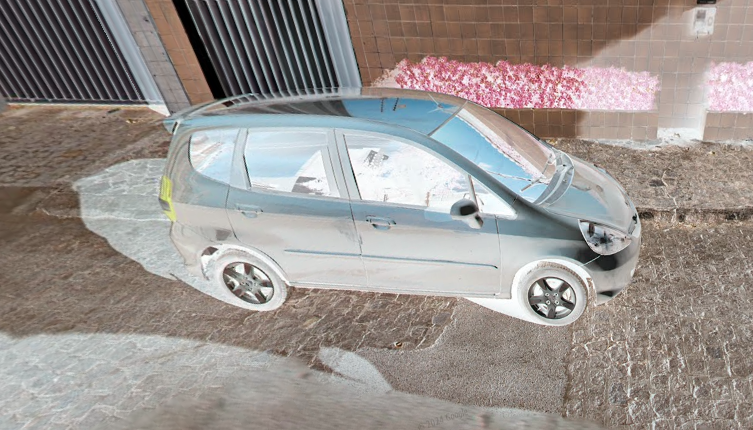car: (157, 83, 645, 331)
